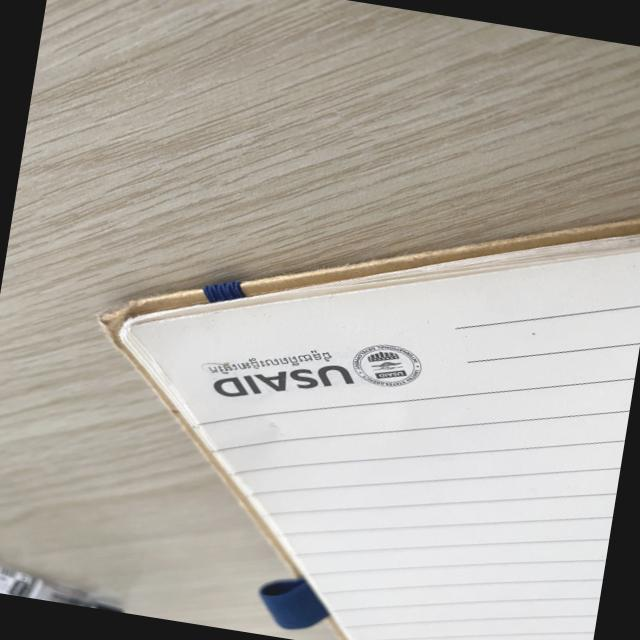Yolov11kh: (200, 344, 339, 376)
